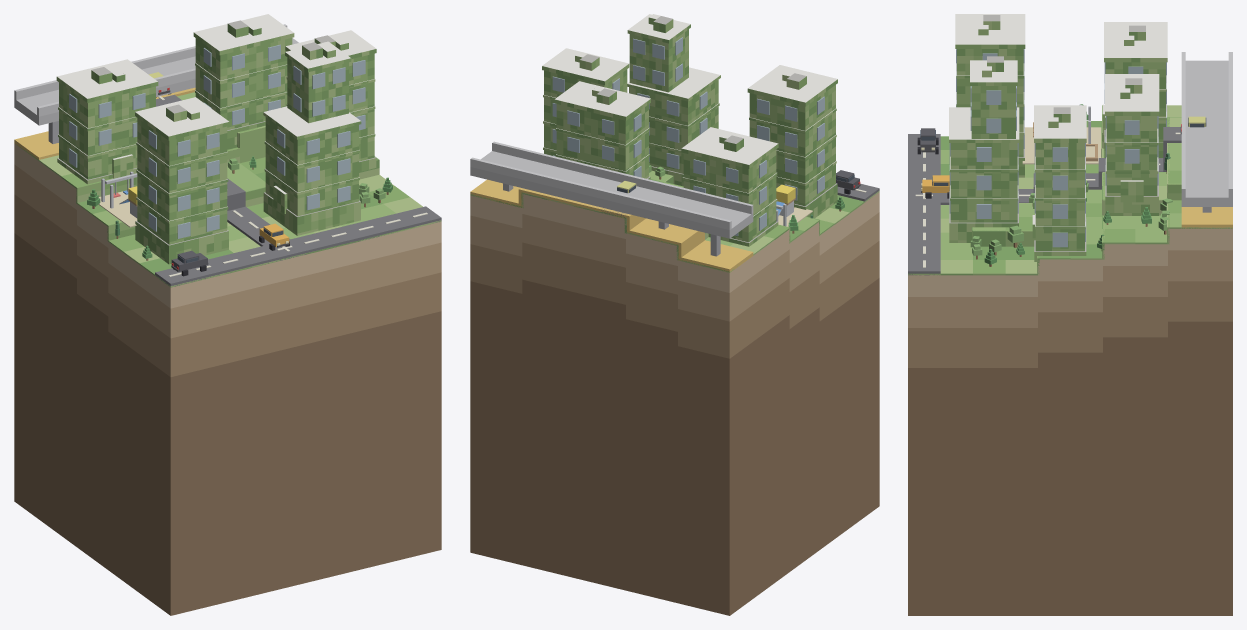
File: block_6_greenfacade_60.glb
3 renders of one model, left to right at view 1: azimuth 30°, elevation 25°; view 2: azimuth 150°, elevation 25°; view 3: azimuth 270°, elevation 25°, orthographic. The views are drawn at different scales.
Visible parts, largest first — view 1: Patch_UpperLeft_b01_GF, Res_UL_04_GF, Res_UL_01_GF, Res_UL_00_GF, Res_UL_02_GF, Green_UpperLeft_j4_b01_GF, Roads_UpperLeft_b01_GF, Bridge_UpperLeft_b01_GF, Res_UL_03_GF, Playground_UpperLeft_GF, Paver_UpperLeft_b01_GF, ULCar_005_GF; view 2: Patch_UpperLeft_b01_GF, Bridge_UpperLeft_b01_GF, Res_UL_01_GF, Res_UL_04_GF, Res_UL_02_GF, Res_UL_00_GF, Paver_UpperLeft_b01_GF, Res_UL_03_GF, Green_UpperLeft_j4_b01_GF, Playground_UpperLeft_GF; view 3: Patch_UpperLeft_b01_GF, Res_UL_04_GF, Green_UpperLeft_j4_b01_GF, Res_UL_03_GF, Res_UL_02_GF, Bridge_UpperLeft_b01_GF, Roads_UpperLeft_b01_GF, Res_UL_01_GF, Res_UL_00_GF, Paver_UpperLeft_b01_GF, Playground_UpperLeft_GF, ULCar_022_GF (+1 smaller).
Part boxes in pixels (x1=…): Patch_UpperLeft_b01_GF: x1=14, y1=143, x2=441, y2=615; Res_UL_04_GF: x1=263, y1=41, x2=361, y2=235; Res_UL_01_GF: x1=135, y1=97, x2=229, y2=264; Res_UL_00_GF: x1=56, y1=59, x2=158, y2=186; Res_UL_02_GF: x1=193, y1=14, x2=294, y2=149; Green_UpperLeft_j4_b01_GF: x1=15, y1=92, x2=441, y2=287; Roads_UpperLeft_b01_GF: x1=155, y1=94, x2=441, y2=286; Bridge_UpperLeft_b01_GF: x1=14, y1=24, x2=298, y2=143; Res_UL_03_GF: x1=285, y1=30, x2=376, y2=171; Playground_UpperLeft_GF: x1=98, y1=171, x2=137, y2=227; Paver_UpperLeft_b01_GF: x1=14, y1=87, x2=195, y2=159; ULCar_005_GF: x1=171, y1=250, x2=208, y2=276; Patch_UpperLeft_b01_GF: x1=470, y1=192, x2=879, y2=615; Bridge_UpperLeft_b01_GF: x1=470, y1=141, x2=753, y2=256; Res_UL_01_GF: x1=747, y1=65, x2=837, y2=218; Res_UL_04_GF: x1=627, y1=14, x2=720, y2=186; Res_UL_02_GF: x1=554, y1=81, x2=650, y2=179; Res_UL_00_GF: x1=681, y1=127, x2=778, y2=246; Paver_UpperLeft_b01_GF: x1=470, y1=179, x2=753, y2=272; Res_UL_03_GF: x1=542, y1=48, x2=629, y2=156; Green_UpperLeft_j4_b01_GF: x1=470, y1=170, x2=879, y2=272; Playground_UpperLeft_GF: x1=776, y1=184, x2=812, y2=226; Patch_UpperLeft_b01_GF: x1=908, y1=228, x2=1232, y2=615; Res_UL_04_GF: x1=949, y1=56, x2=1019, y2=242; Green_UpperLeft_j4_b01_GF: x1=908, y1=105, x2=1232, y2=275; Res_UL_03_GF: x1=1032, y1=105, x2=1086, y2=261; Res_UL_02_GF: x1=1105, y1=74, x2=1159, y2=215; Bridge_UpperLeft_b01_GF: x1=1181, y1=52, x2=1232, y2=212; Roads_UpperLeft_b01_GF: x1=908, y1=127, x2=1181, y2=275; Res_UL_01_GF: x1=955, y1=14, x2=1025, y2=177; Res_UL_00_GF: x1=1102, y1=22, x2=1167, y2=157; Paver_UpperLeft_b01_GF: x1=1181, y1=207, x2=1232, y2=228; Playground_UpperLeft_GF: x1=1022, y1=104, x2=1101, y2=164; ULCar_022_GF: x1=921, y1=175, x2=949, y2=198.
Bounding box in the file's own units: 9.5 × 16.54 × 9.5.
